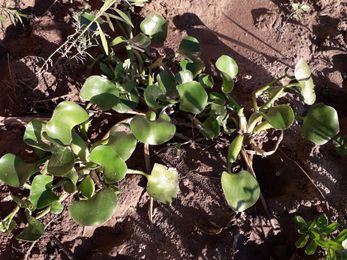water_hyacinth: (1, 14, 342, 227)
